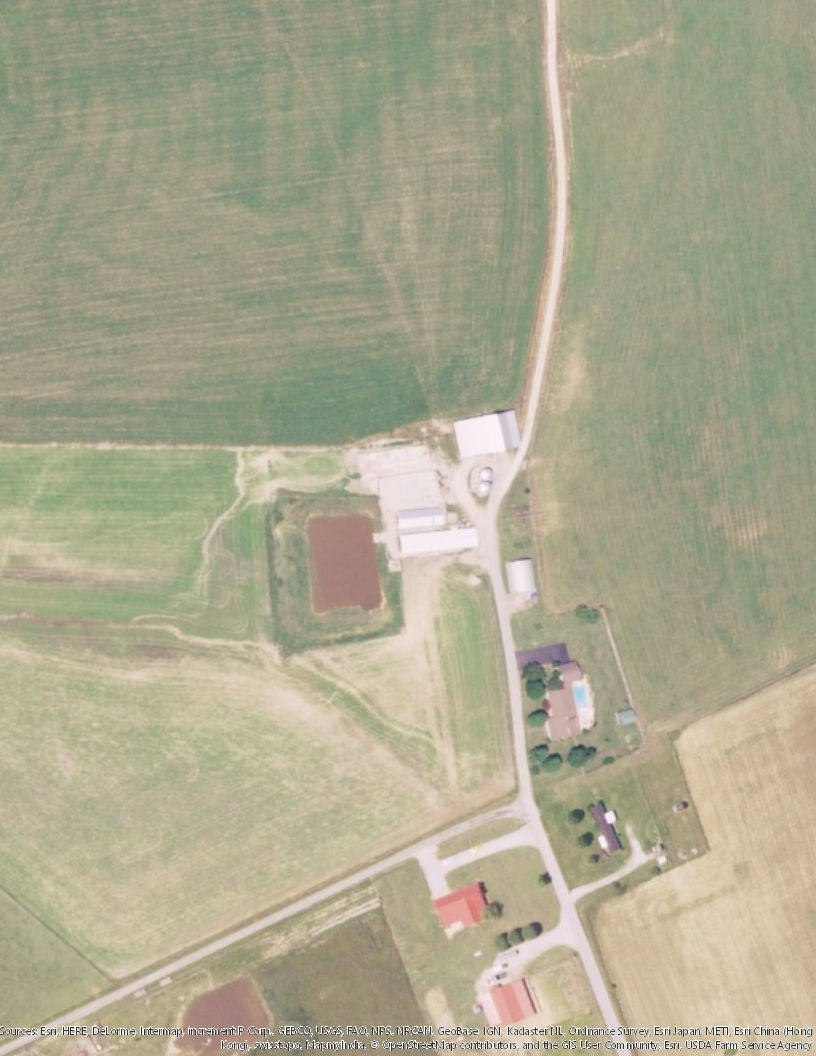cafo: (449, 406, 529, 456), (392, 524, 484, 559), (499, 555, 543, 595), (391, 505, 451, 532)
